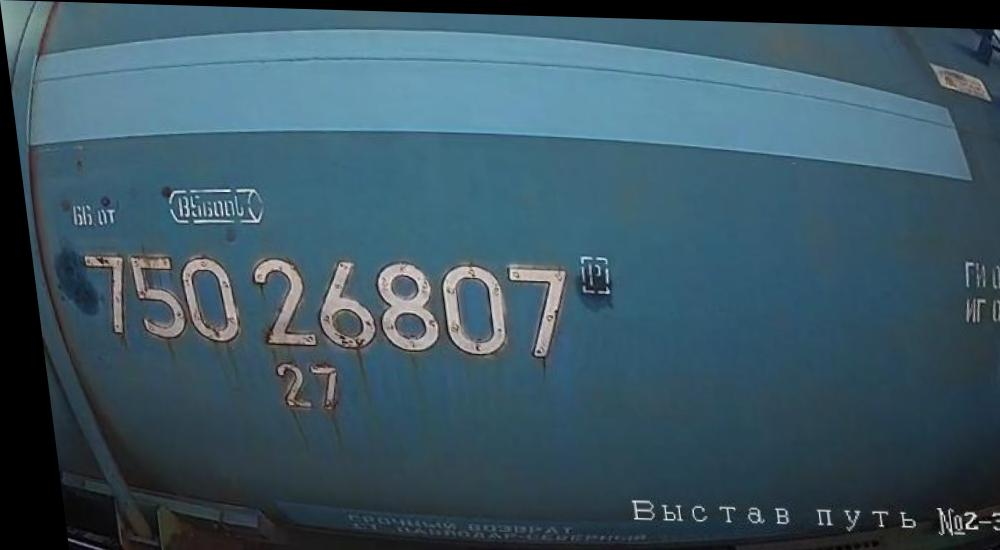Wagon-number: (70, 238, 572, 366)
